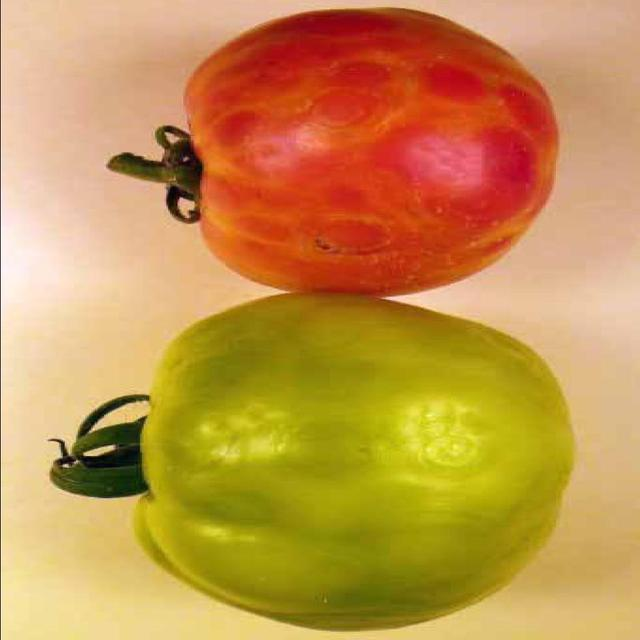Spotted wilt Virus Fruit: (261, 23, 360, 209)
